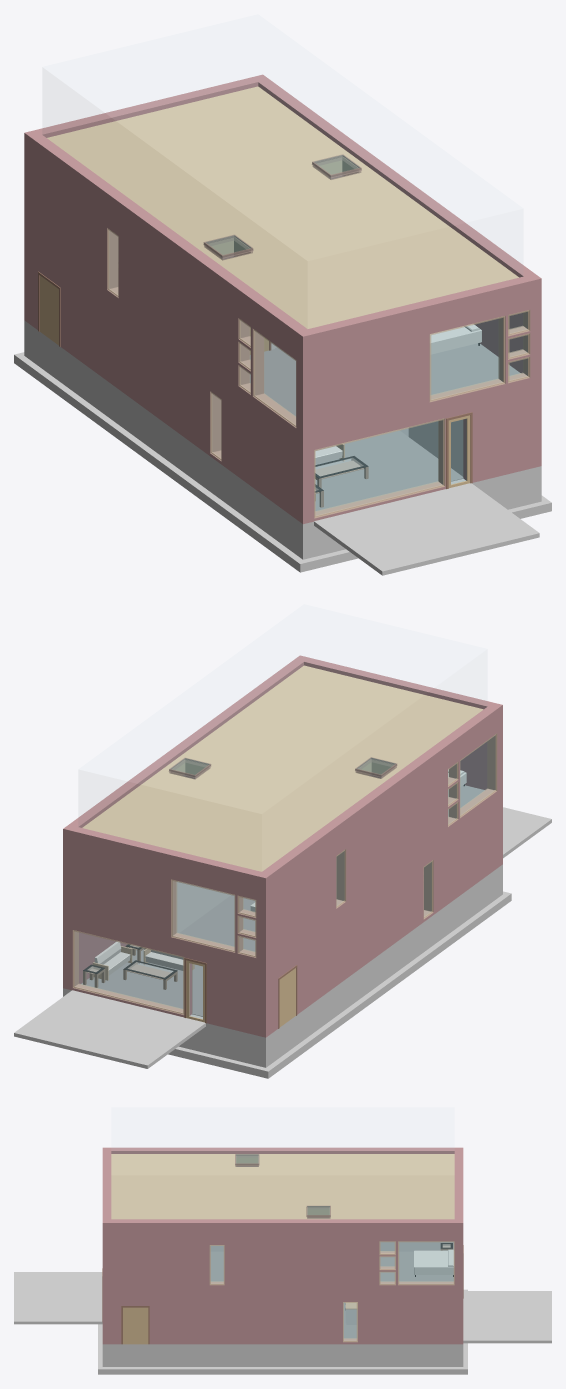
3 renders of one model, top to bottom at view 1: azimuth 30°, elevation 25°; view 2: azimuth 150°, elevation 25°; view 3: azimuth 270°, elevation 25°, orthographic. The views are drawn at different scales.
Visible parts, largest first — view 1: 0jf0rYHfX3RAB3bSQRjmxl, 2O2Fr$t4X7Zf8NOew3FNhv, 2O2Fr$t4X7Zf8NOew3FLPP, 2O2Fr$t4X7Zf8NOew3FLOH, 1CZILmCaHETO8tf3SgGEXu, 2O2Fr$t4X7Zf8NOew3FNr2, 2O2Fr$t4X7Zf8NOew3FKE5, 0jf0rYHfX3RAB3bSIRjmr1, 2OBrcmyk58NupXoVOHUtxr, 0jf0rYHfX3RAB3bSIRjmoa, 0jf0rYHfX3RAB3bSIRjmpw, 0kF45Qs8L9PAM9kmb1lT5t (+17 smaller); view 2: 0jf0rYHfX3RAB3bSQRjmxl, 2O2Fr$t4X7Zf8NOew3FNhv, 2O2Fr$t4X7Zf8NOew3FLPP, 2O2Fr$t4X7Zf8NOew3FLQD, 2O2Fr$t4X7Zf8NOew3FNtn, 1CZILmCaHETO8tf3SgGEWh, 2O2Fr$t4X7Zf8NOew3FKE5, 0jf0rYHfX3RAB3bSIRjmr1, 0jf0rYHfX3RAB3bSIRjmmy, 0kF45Qs8L9PAM9kmb1lT5t, 0jf0rYHfX3RAB3bSIRjmpw, 2OBrcmyk58NupXoVOHUtgP (+18 smaller); view 3: 0jf0rYHfX3RAB3bSQRjmxl, 2O2Fr$t4X7Zf8NOew3FNqI, 2O2Fr$t4X7Zf8NOew3FLR9, 2O2Fr$t4X7Zf8NOew3FK9N, 0jf0rYHfX3RAB3bSIRjmpw, 1CZILmCaHETO8tf3SgGEWh, 1CZILmCaHETO8tf3SgGEXu, 0kF45Qs8L9PAM9kmb1lT5d, 0jf0rYHfX3RAB3bSIRjmr1, 1hOSvn6df7F8_7GcBWlRGQ, 2OBrcmyk58NupXoVOHUtDX, 2OBrcmyk58NupXoVOHUtI8 (+6 smaller).
Boxes of the visible parts, x1=… form: 0jf0rYHfX3RAB3bSQRjmxl: x1=47, y1=86, x2=518, y2=328; 2O2Fr$t4X7Zf8NOew3FNhv: x1=31, y1=237, x2=296, y2=518; 2O2Fr$t4X7Zf8NOew3FLPP: x1=24, y1=150, x2=302, y2=435; 2O2Fr$t4X7Zf8NOew3FLOH: x1=303, y1=296, x2=541, y2=436; 1CZILmCaHETO8tf3SgGEXu: x1=314, y1=483, x2=539, y2=575; 2O2Fr$t4X7Zf8NOew3FNr2: x1=296, y1=381, x2=530, y2=524; 2O2Fr$t4X7Zf8NOew3FKE5: x1=31, y1=325, x2=296, y2=554; 0jf0rYHfX3RAB3bSIRjmr1: x1=31, y1=135, x2=307, y2=348; 2OBrcmyk58NupXoVOHUtxr: x1=315, y1=428, x2=463, y2=511; 0jf0rYHfX3RAB3bSIRjmoa: x1=296, y1=276, x2=530, y2=353; 0jf0rYHfX3RAB3bSIRjmpw: x1=258, y1=79, x2=541, y2=298; 0kF45Qs8L9PAM9kmb1lT5t: x1=14, y1=352, x2=292, y2=561; 0jf0rYHfX3RAB3bSQRjmxl: x1=82, y1=665, x2=483, y2=871; 2O2Fr$t4X7Zf8NOew3FNhv: x1=271, y1=794, x2=497, y2=1032; 2O2Fr$t4X7Zf8NOew3FLPP: x1=266, y1=720, x2=502, y2=962; 2O2Fr$t4X7Zf8NOew3FLQD: x1=63, y1=843, x2=265, y2=962; 2O2Fr$t4X7Zf8NOew3FNtn: x1=63, y1=913, x2=271, y2=1037; 1CZILmCaHETO8tf3SgGEWh: x1=14, y1=990, x2=205, y2=1068; 2O2Fr$t4X7Zf8NOew3FKE5: x1=271, y1=869, x2=497, y2=1063; 0jf0rYHfX3RAB3bSIRjmr1: x1=262, y1=706, x2=497, y2=888; 0jf0rYHfX3RAB3bSIRjmmy: x1=63, y1=825, x2=271, y2=892; 0kF45Qs8L9PAM9kmb1lT5t: x1=247, y1=901, x2=499, y2=1078; 0jf0rYHfX3RAB3bSIRjmpw: x1=69, y1=655, x2=309, y2=827; 2OBrcmyk58NupXoVOHUtgP: x1=81, y1=949, x2=202, y2=1016; 0jf0rYHfX3RAB3bSQRjmxl: x1=111, y1=1154, x2=454, y2=1219; 2O2Fr$t4X7Zf8NOew3FNqI: x1=102, y1=1287, x2=454, y2=1344; 2O2Fr$t4X7Zf8NOew3FLR9: x1=102, y1=1234, x2=463, y2=1287; 2O2Fr$t4X7Zf8NOew3FK9N: x1=102, y1=1344, x2=454, y2=1366; 0jf0rYHfX3RAB3bSIRjmpw: x1=102, y1=1219, x2=454, y2=1233; 1CZILmCaHETO8tf3SgGEWh: x1=463, y1=1291, x2=551, y2=1343; 1CZILmCaHETO8tf3SgGEXu: x1=14, y1=1272, x2=102, y2=1324; 0kF45Qs8L9PAM9kmb1lT5d: x1=98, y1=1361, x2=467, y2=1374; 0jf0rYHfX3RAB3bSIRjmr1: x1=111, y1=1147, x2=454, y2=1153; 1hOSvn6df7F8_7GcBWlRGQ: x1=121, y1=1306, x2=149, y2=1344; 2OBrcmyk58NupXoVOHUtDX: x1=380, y1=1251, x2=453, y2=1281; 2OBrcmyk58NupXoVOHUtI8: x1=414, y1=1249, x2=453, y2=1276.
Size of the model in its own units: 9.28 by 10.55 by 26.57.
